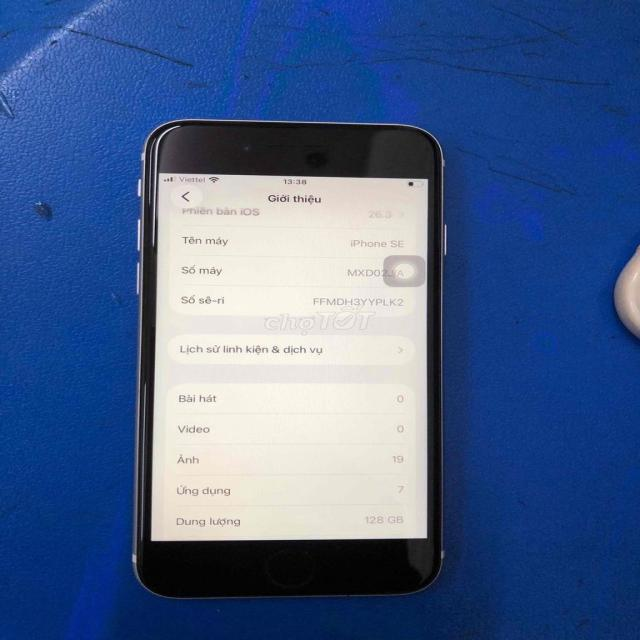gen_7_8: (133, 121, 445, 598)
